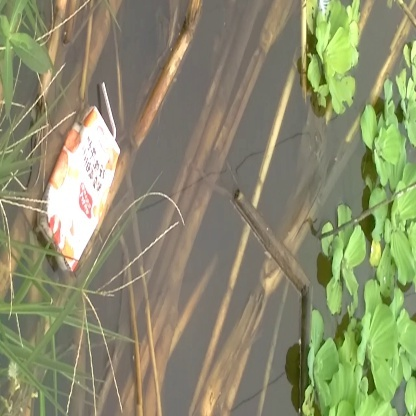milk-box: (35, 81, 133, 277)
